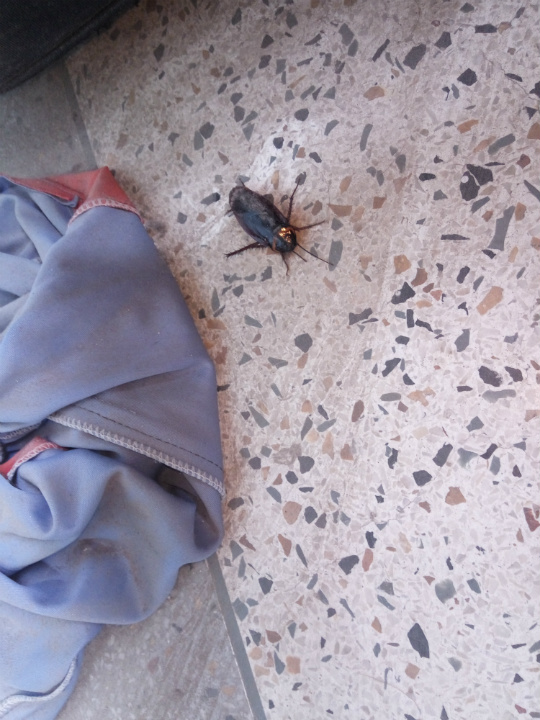cockroach: (181, 165, 374, 302)
